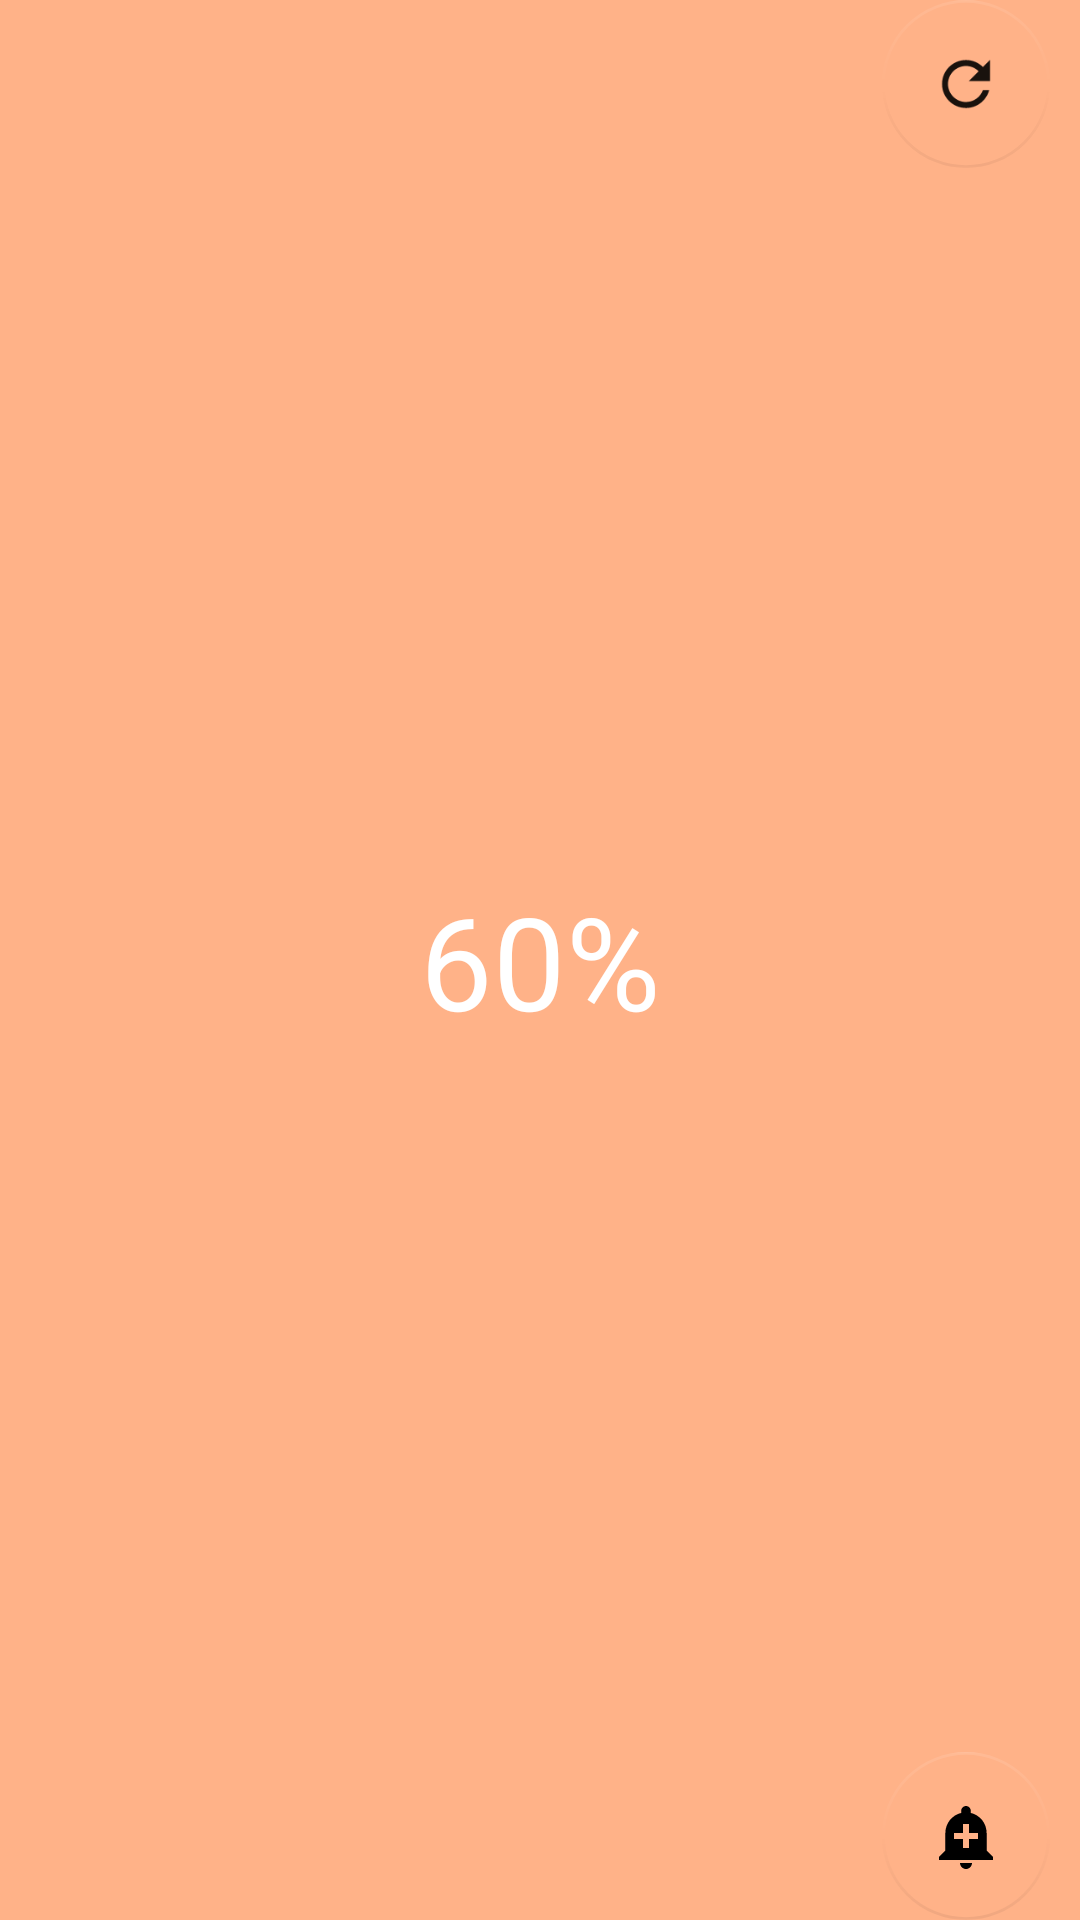

Point at icon controls on the screen. Image size 1080 × 1920, points as (x,y).
add alert: (966,1837)
refresh: (966,84)
